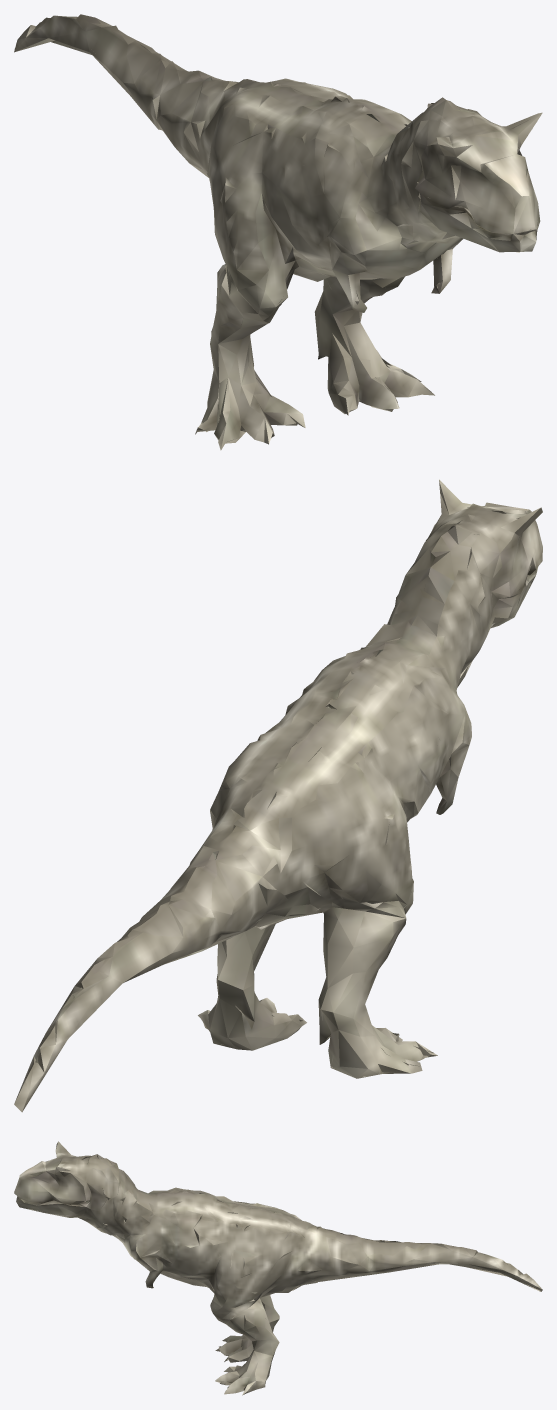
Rendered from mp_dino_statue.glb.
3 renders of one model, top to bottom at view 1: azimuth 30°, elevation 25°; view 2: azimuth 150°, elevation 25°; view 3: azimuth 270°, elevation 25°, orthographic. The views are drawn at different scales.
Visible parts, largest first — view 1: turn; view 2: turn; view 3: turn.
Boxes of the visible parts, <box> form: turn: <box>14,14,542,450</box>; turn: <box>14,479,542,1112</box>; turn: <box>14,1141,542,1395</box>.
Bounding box in the file's own units: 1.46 × 2.6 × 5.79.
1 material, 1 textured.
